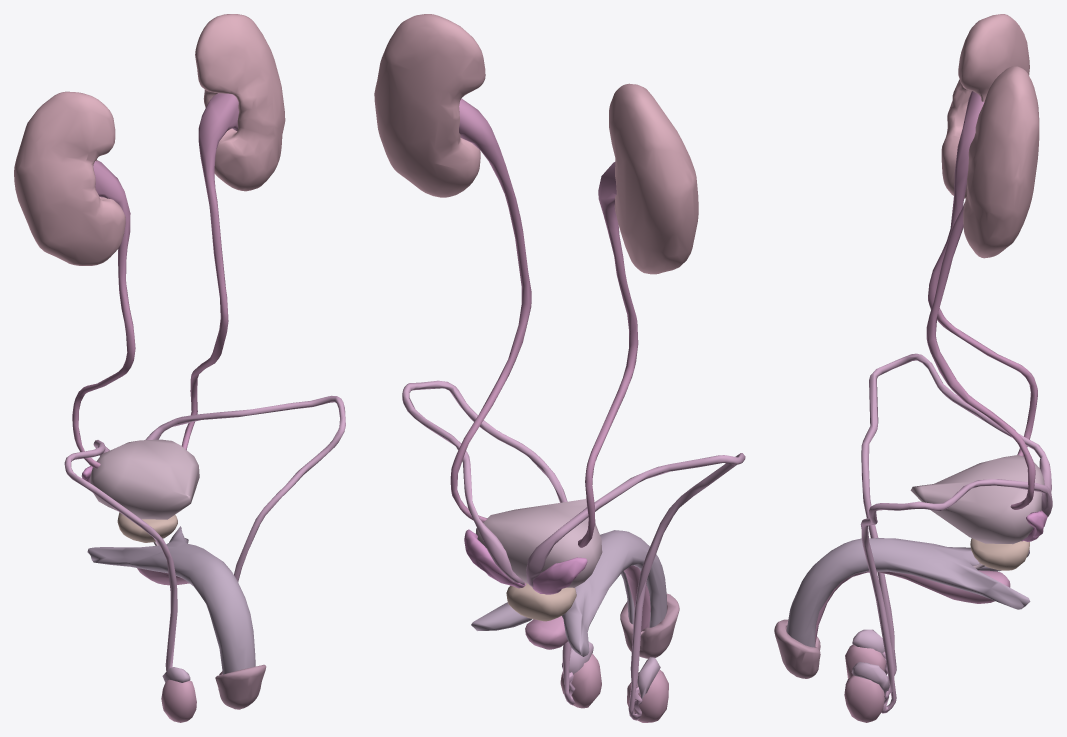
Rendered from body-urogenital.lod2.glb.
The picture shows the model from 3 angles, left to right: view 1: azimuth 30°, elevation 25°; view 2: azimuth 150°, elevation 25°; view 3: azimuth 270°, elevation 25°; orthographic projection. The views are drawn at different scales.
Parts seen in each view (by area): view 1: kidney-r, kidney-l, corpus-cavernosum-of-penis, urinary-bladder, ureter-l, ureter-r, deferent-duct-l, deferent-duct-r, glans-penis, testis-r, prostate; view 2: kidney-l, kidney-r, corpus-cavernosum-of-penis, urinary-bladder, deferent-duct-r, ureter-l, deferent-duct-l, ureter-r, prostate, corpus-spongiosum-of-penis, glans-penis, testis-l (+3 smaller); view 3: kidney-l, corpus-cavernosum-of-penis, urinary-bladder, kidney-r, deferent-duct-r, ureter-r, deferent-duct-l, ureter-l, glans-penis, testis-l, corpus-spongiosum-of-penis, prostate (+4 smaller).
Part boxes in pixels (<box>): kidney-r: <box>14,91,125,265</box>; kidney-l: <box>195,14,285,191</box>; corpus-cavernosum-of-penis: <box>87,526,255,674</box>; urinary-bladder: <box>90,439,199,519</box>; ureter-l: <box>181,93,238,449</box>; ureter-r: <box>72,160,135,468</box>; deferent-duct-l: <box>145,395,345,581</box>; deferent-duct-r: <box>64,440,177,671</box>; glans-penis: <box>215,664,266,709</box>; testis-r: <box>161,679,196,722</box>; prostate: <box>117,512,177,542</box>; kidney-l: <box>374,14,485,197</box>; kidney-r: <box>609,83,698,274</box>; corpus-cavernosum-of-penis: <box>471,530,666,656</box>; urinary-bladder: <box>475,498,602,587</box>; deferent-duct-r: <box>526,453,745,720</box>; ureter-l: <box>450,98,531,522</box>; deferent-duct-l: <box>402,380,575,705</box>; ureter-r: <box>578,162,638,547</box>; prostate: <box>506,582,576,621</box>; corpus-spongiosum-of-penis: <box>525,565,650,649</box>; glans-penis: <box>620,593,679,658</box>; testis-l: <box>560,653,601,708</box>; kidney-l: <box>963,66,1039,258</box>; corpus-cavernosum-of-penis: <box>786,538,1030,647</box>; urinary-bladder: <box>910,455,1044,544</box>; kidney-r: <box>941,14,1029,198</box>; deferent-duct-r: <box>861,353,1051,676</box>; ureter-r: <box>928,91,1037,456</box>; deferent-duct-l: <box>860,479,1052,713</box>; ureter-l: <box>926,202,1035,509</box>; glans-penis: <box>774,619,820,678</box>; testis-l: <box>844,675,884,722</box>; corpus-spongiosum-of-penis: <box>815,570,1010,643</box>; prostate: <box>970,538,1029,570</box>.
Bounding box in the file's own units: 0.1901 × 0.4007 × 0.1483.
